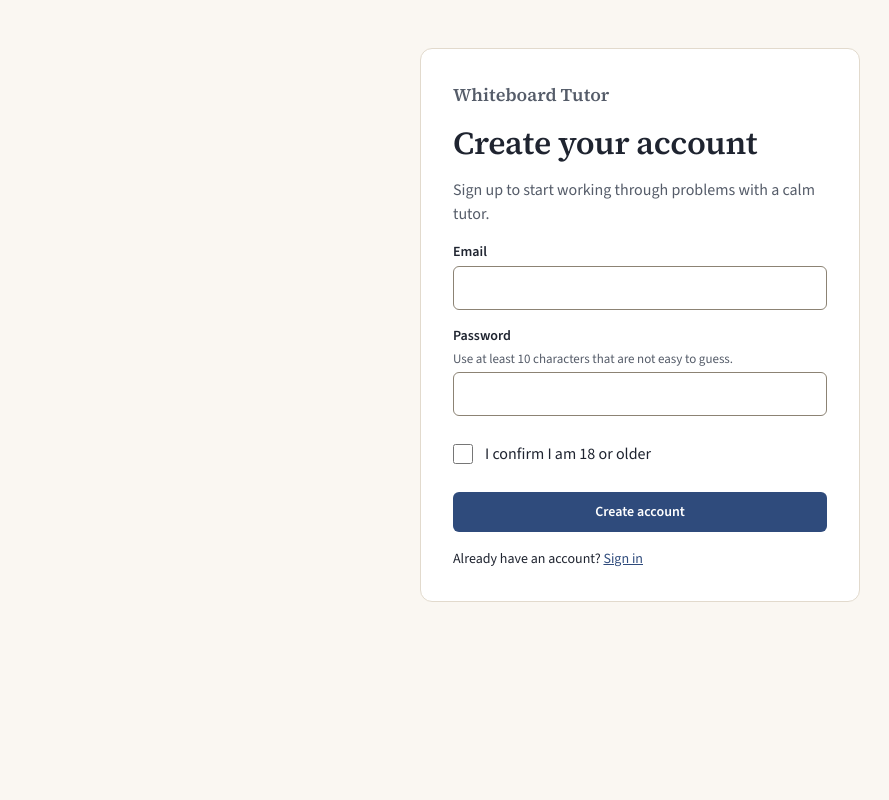
Test: sign up › signs the Learner in, primes CSRF first, and shows the email in the shell
Step 1. Type "maya@example.com" into the field labelled "Email" → (640, 288), box [453,266,827,310]
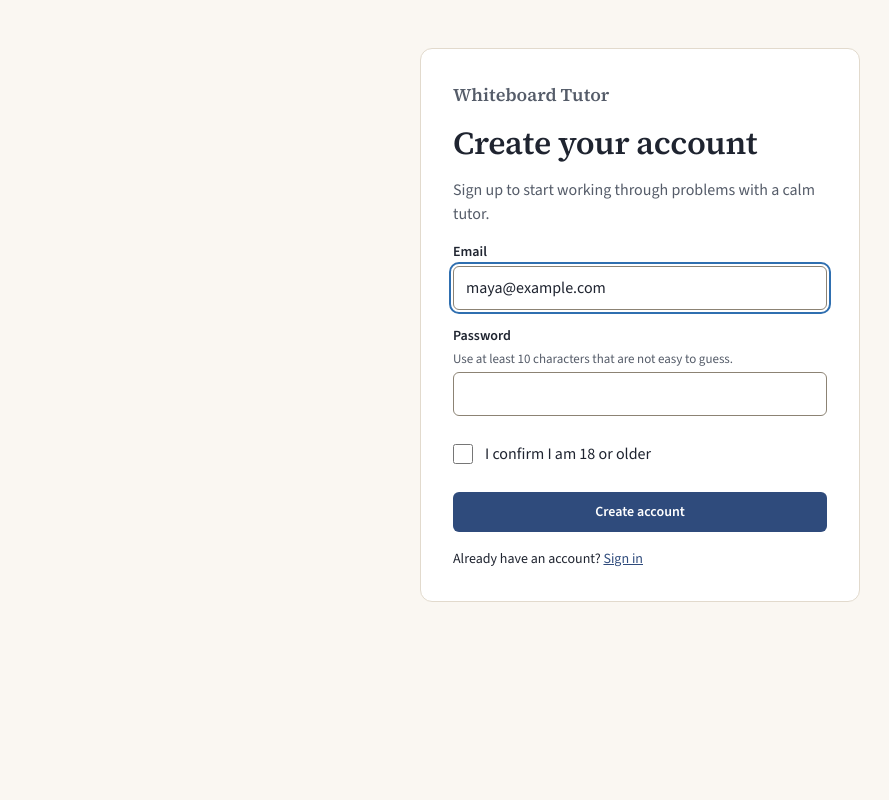
Step 2. Type "a long enough passphrase" into the password field labelled "Password" → (640, 394), box [453,372,827,416]
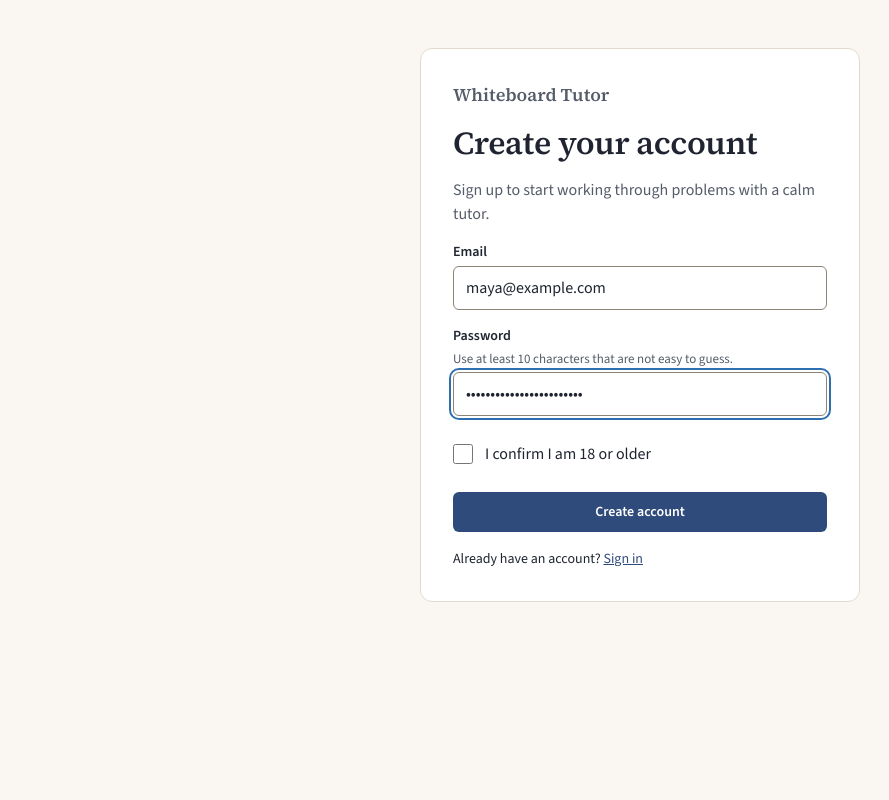
Step 3. Click the checkbox labelled "I confirm I am 18 or older" → (463, 454), box [453,444,473,464]
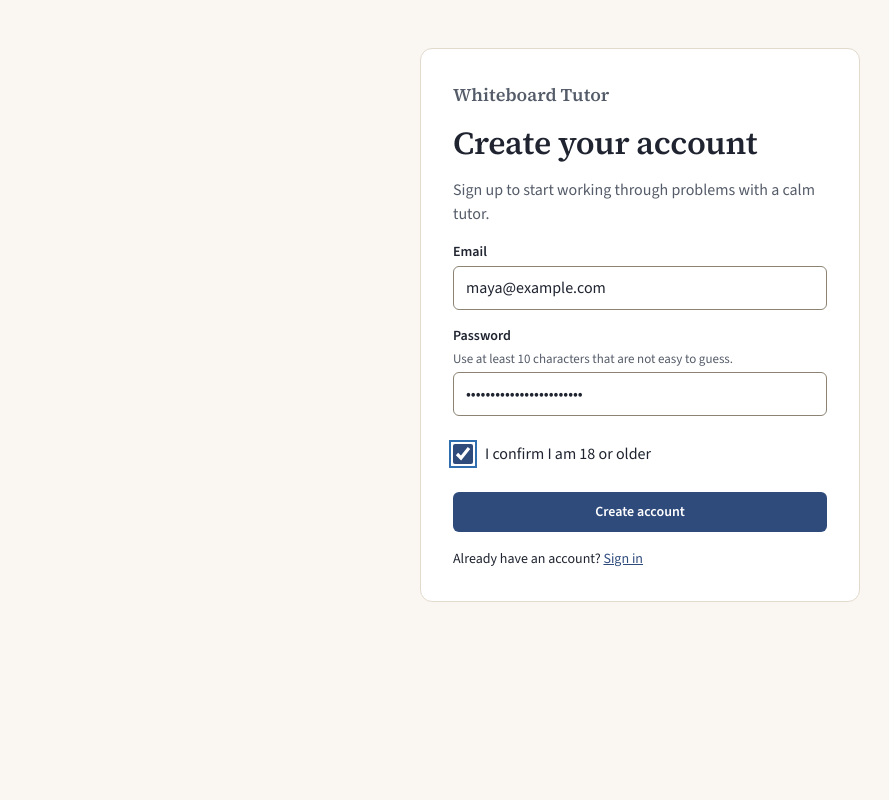
Step 4. Click the button "Create account" → (640, 512), box [453,492,827,532]
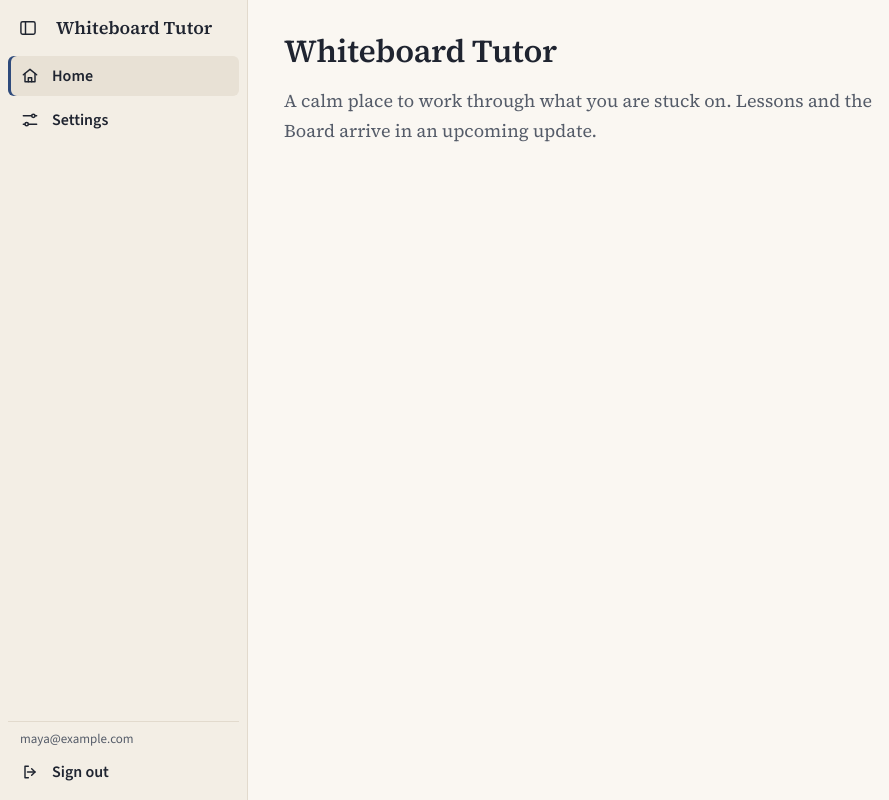
Expected: the heading "Whiteboard Tutor" is shown, [284,29,557,73]
Expected: the text "maya@example.com" is shown, [19,729,134,747]
